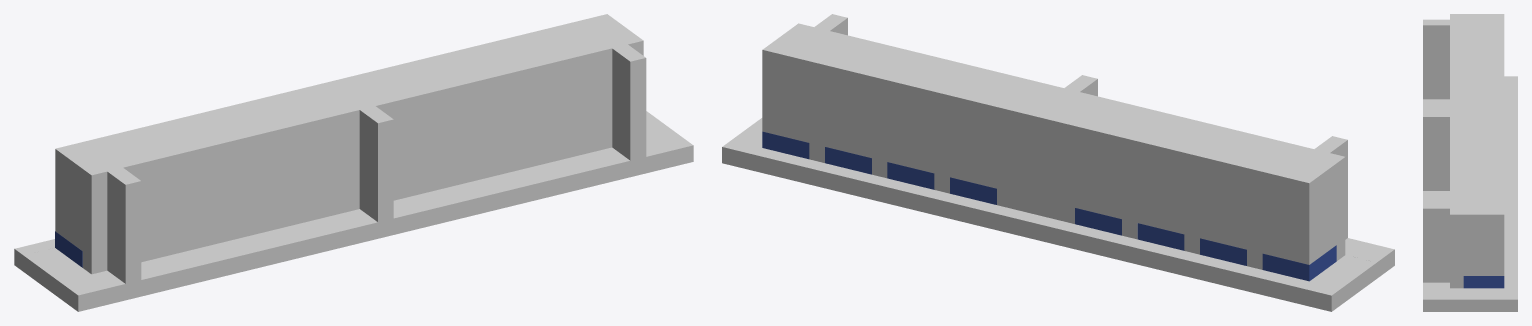
File: tinker.obj
3 views of the same model, side by side, from view 1: azimuth 30°, elevation 25°; view 2: azimuth 150°, elevation 25°; view 3: azimuth 270°, elevation 25° (orthographic). The views are drawn at different scales.
Parts seen in each view (by area): view 1: obj_8, obj_7; view 2: obj_8, obj_7, obj_6, obj_0, obj_4, obj_1, obj_2, obj_3, obj_5; view 3: obj_8, obj_6.
Part boxes in pixels (x1,y1,x2,y2): obj_8: [14, 14, 693, 311]; obj_7: [55, 231, 82, 267]; obj_8: [722, 14, 1394, 311]; obj_7: [1262, 245, 1336, 281]; obj_6: [762, 131, 809, 159]; obj_0: [1137, 223, 1184, 250]; obj_4: [887, 162, 934, 189]; obj_1: [1200, 238, 1246, 265]; obj_2: [1075, 208, 1121, 235]; obj_3: [950, 177, 996, 204]; obj_5: [825, 147, 871, 174]; obj_8: [1423, 14, 1517, 311]; obj_6: [1463, 276, 1504, 288].
Bounding box in the file's own units: 39 × 7 × 7.
